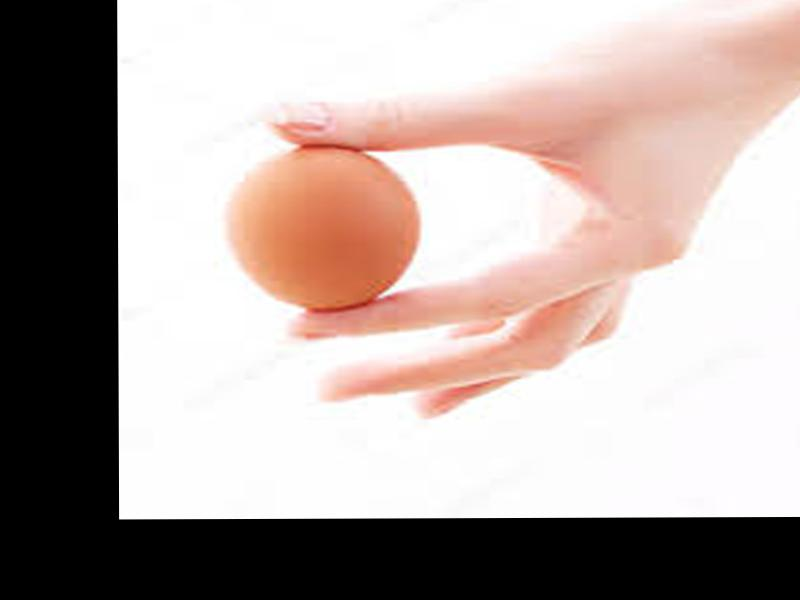Eggs: (228, 143, 416, 312)
